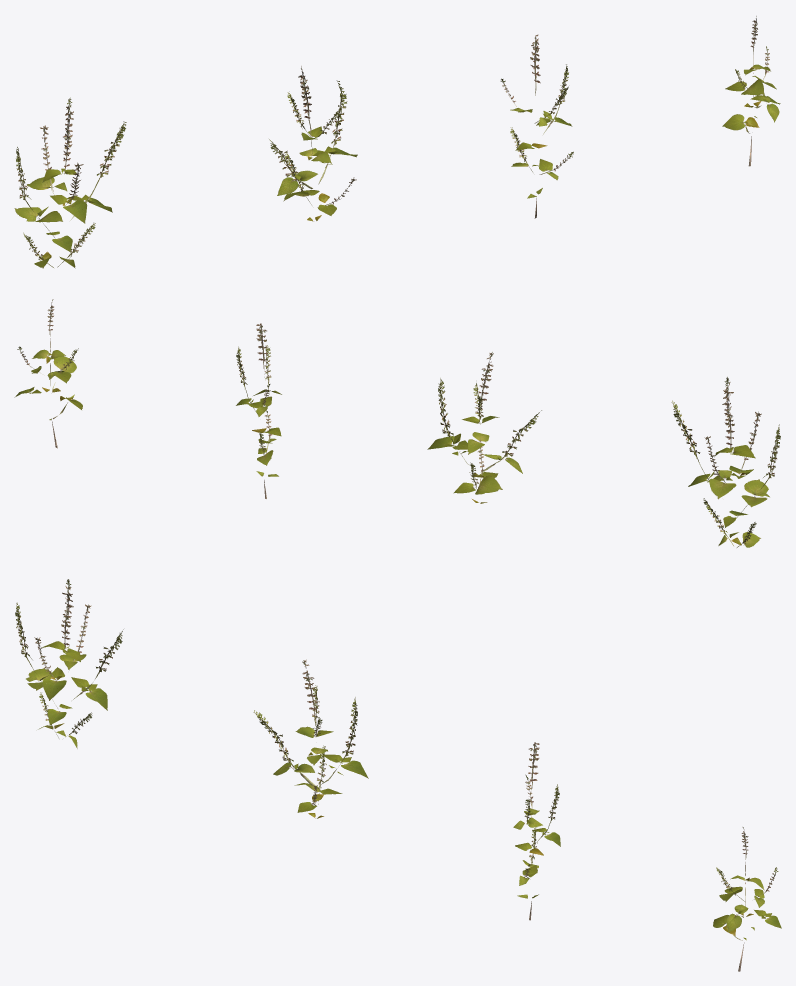
File: shrub_dry_b.glb
3 views of the same model, one above another, from view 1: azimuth 30°, elevation 25°; view 2: azimuth 150°, elevation 25°; view 3: azimuth 330°, elevation 25° (orthographic). The views are drawn at different scales.
Parts seen in each view (by area): view 1: shrub_03_a, shrub_03_b, shrub_03_c, shrub_03_d; view 2: shrub_03_a, shrub_03_b, shrub_03_c, shrub_03_d; view 3: shrub_03_a, shrub_03_b, shrub_03_d, shrub_03_c.
Boxes of the visible parts, x1,y1,x2,y2 form: shrub_03_a: (14, 97, 126, 268); shrub_03_b: (269, 66, 357, 221); shrub_03_c: (500, 34, 573, 218); shrub_03_d: (722, 16, 780, 166); shrub_03_a: (671, 377, 780, 547); shrub_03_b: (427, 352, 541, 503); shrub_03_c: (236, 323, 281, 498); shrub_03_d: (14, 299, 82, 448); shrub_03_a: (15, 579, 123, 748); shrub_03_b: (253, 659, 368, 818); shrub_03_d: (713, 827, 781, 971); shrub_03_c: (513, 742, 560, 920).
Size of the model in its own units: 1.36 by 0.4019 by 0.1512.
Materials: 1 (1 with a texture image).
